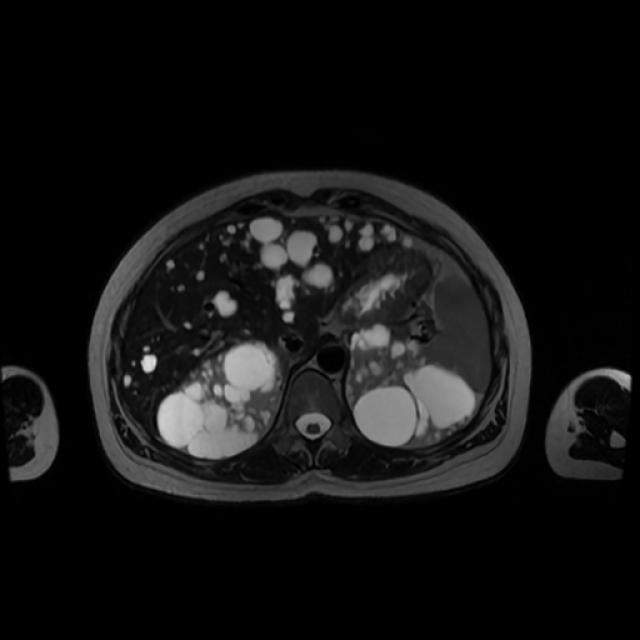sag: (157, 341, 285, 457)
sol: (349, 325, 475, 446)
